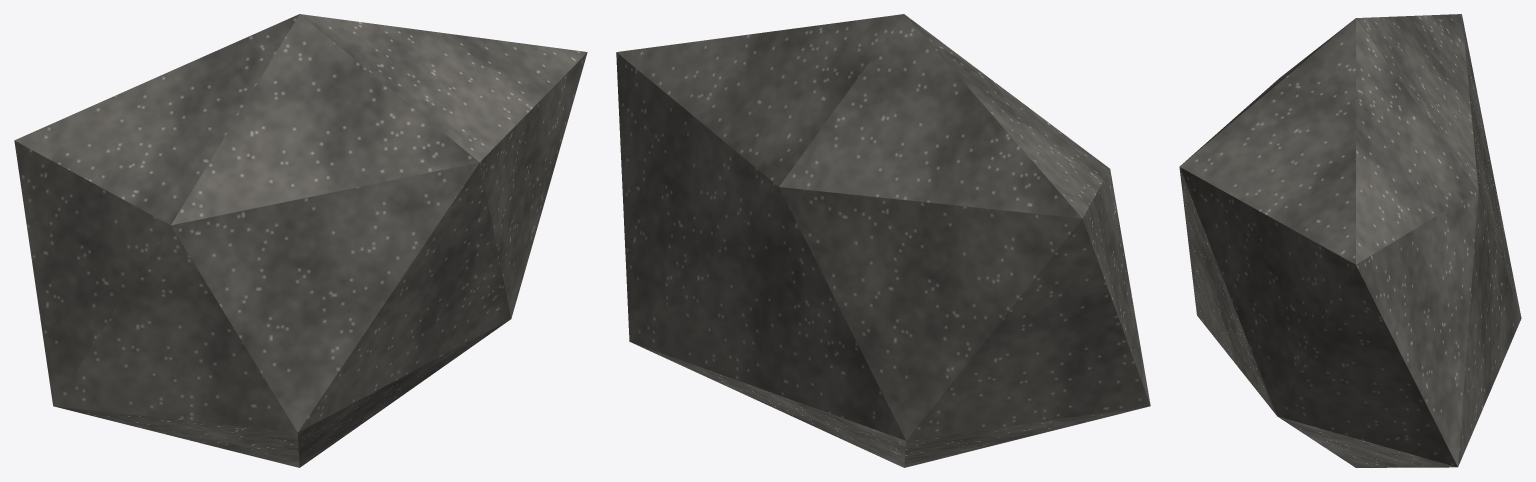
Rendered from CatapultDebris.fbx.
3 renders of one model, left to right at view 1: azimuth 30°, elevation 25°; view 2: azimuth 150°, elevation 25°; view 3: azimuth 270°, elevation 25°, orthographic.
Visible parts, largest first — view 1: CatapultDebris; view 2: CatapultDebris; view 3: CatapultDebris.
Part boxes in pixels (box(x1,y1,x2,y2)): CatapultDebris: box(14, 14, 587, 467); CatapultDebris: box(616, 14, 1150, 467); CatapultDebris: box(1179, 14, 1521, 467).
Bounding box in the file's own units: 0.9479 × 0.7693 × 0.5303.
